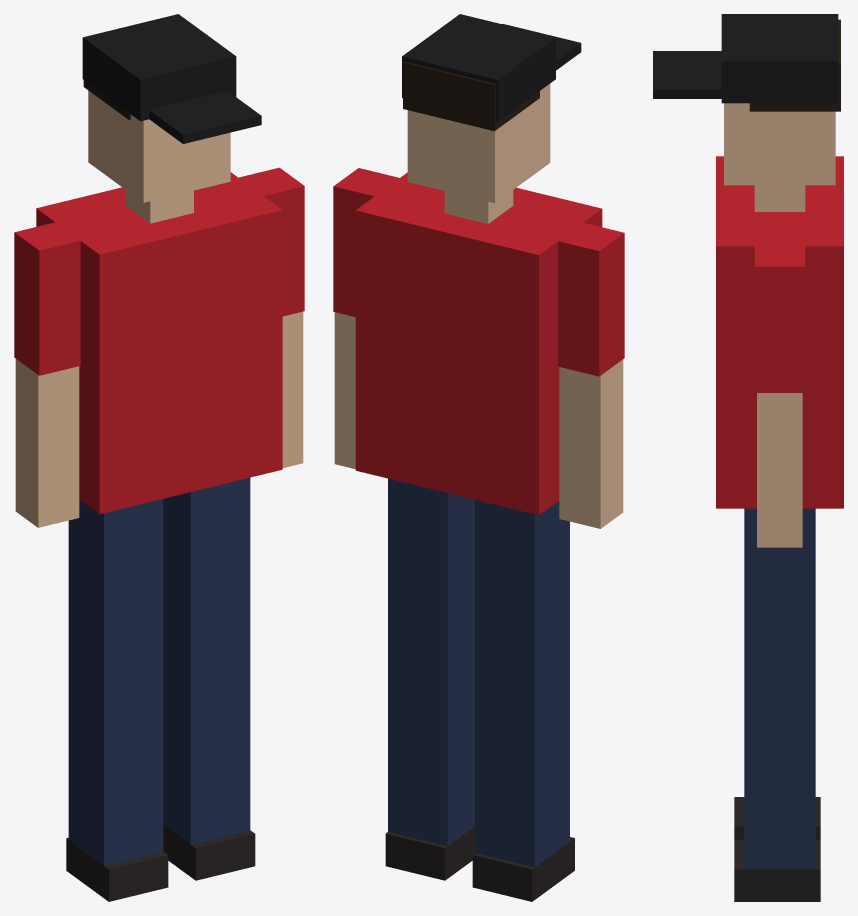
File: fan_a.dae
3 views of the same model, side by side, from view 1: azimuth 30°, elevation 25°; view 2: azimuth 150°, elevation 25°; view 3: azimuth 270°, elevation 25° (orthographic).
Parts seen in each view (by area): view 1: marker; view 2: marker; view 3: marker.
Part boxes in pixels (x1=…): marker: x1=14, y1=14, x2=304, y2=901; marker: x1=333, y1=14, x2=624, y2=901; marker: x1=653, y1=14, x2=843, y2=901.
Size of the model in its own units: 0.609 by 0.376 by 1.8.
